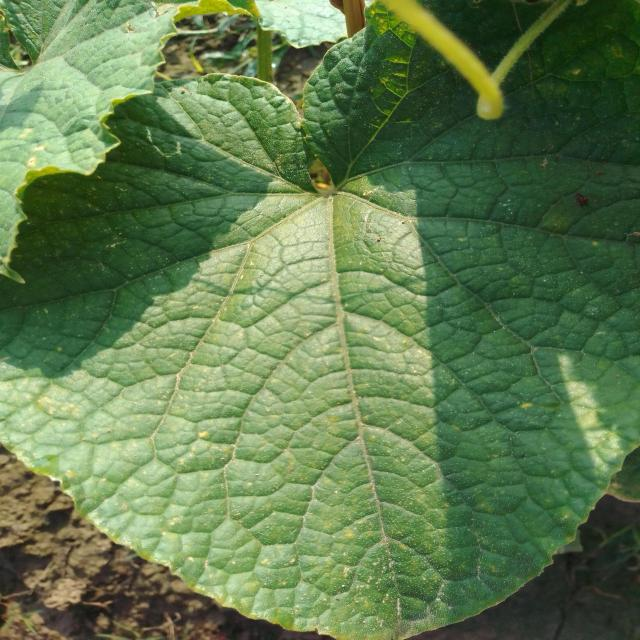cucumber_healthy: (2, 122, 640, 640)
